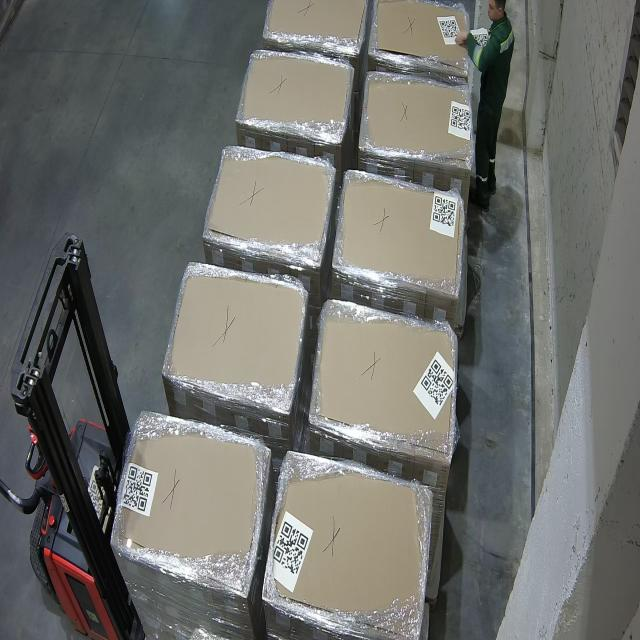pallet: (261, 455, 432, 640), (110, 409, 268, 585), (304, 299, 457, 453), (164, 268, 306, 412), (333, 173, 465, 300), (205, 149, 334, 262), (361, 71, 474, 164), (238, 49, 354, 138), (370, 0, 475, 74), (260, 0, 367, 52)
